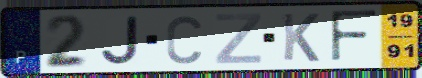2: (42, 13, 90, 70)
C: (165, 13, 204, 66)
F: (328, 9, 380, 65)
J: (98, 14, 141, 67)
K: (280, 11, 322, 64)
Z: (213, 11, 264, 65)
